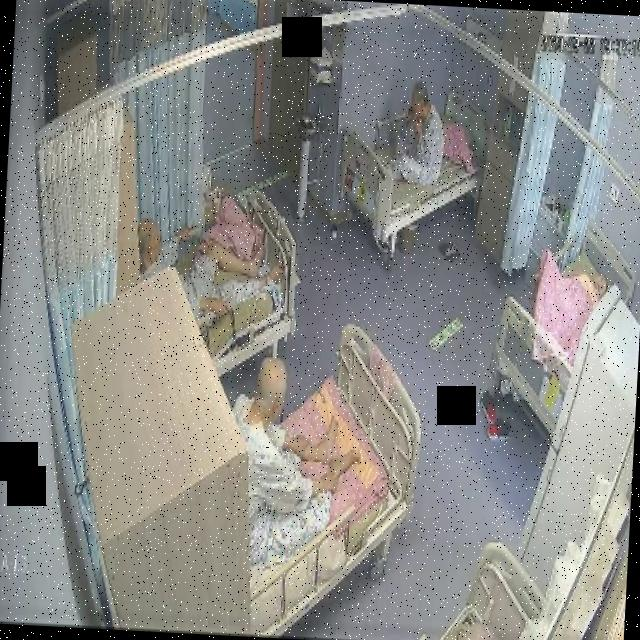bed: (237, 321, 427, 640), (488, 216, 640, 446), (166, 188, 302, 385), (336, 85, 485, 247)
lie: (136, 216, 284, 326)
patient: (223, 346, 365, 570), (134, 215, 286, 328), (388, 80, 448, 194)
sit: (224, 344, 364, 566), (389, 80, 446, 194)
